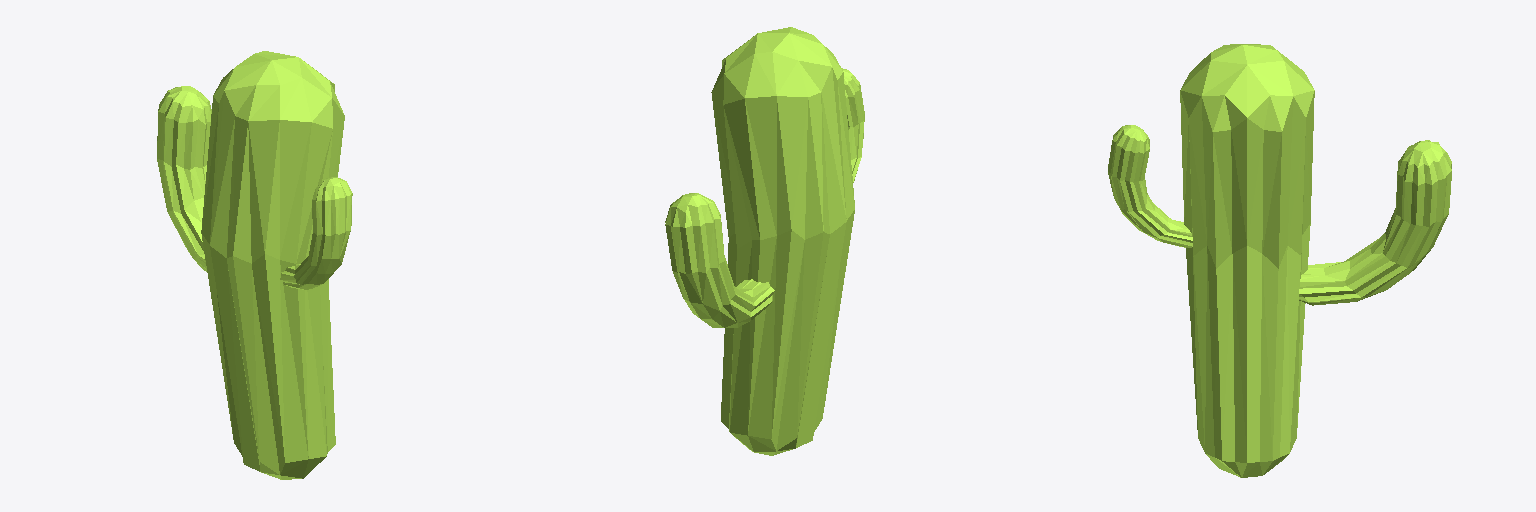
File: Cactus04.obj
3 views of the same model, side by side, from view 1: azimuth 30°, elevation 25°; view 2: azimuth 150°, elevation 25°; view 3: azimuth 270°, elevation 25° (orthographic).
Parts seen in each view (by area): view 1: Circle, x_Circle.001, x.001_Circle.002; view 2: Circle, x_Circle.001, x.001_Circle.002; view 3: Circle, x_Circle.001, x.001_Circle.002.
Boxes of the visible parts, x1=… form: Circle: x1=201, y1=51, x2=344, y2=479; x_Circle.001: x1=157, y1=86, x2=211, y2=271; x.001_Circle.002: x1=280, y1=177, x2=352, y2=289; Circle: x1=711, y1=27, x2=854, y2=455; x_Circle.001: x1=665, y1=193, x2=774, y2=327; x.001_Circle.002: x1=842, y1=68, x2=864, y2=182; Circle: x1=1180, y1=44, x2=1314, y2=477; x_Circle.001: x1=1299, y1=140, x2=1451, y2=305; x.001_Circle.002: x1=1108, y1=125, x2=1192, y2=247.
Bounding box in the file's own units: 2.89 × 9.28 × 6.91.